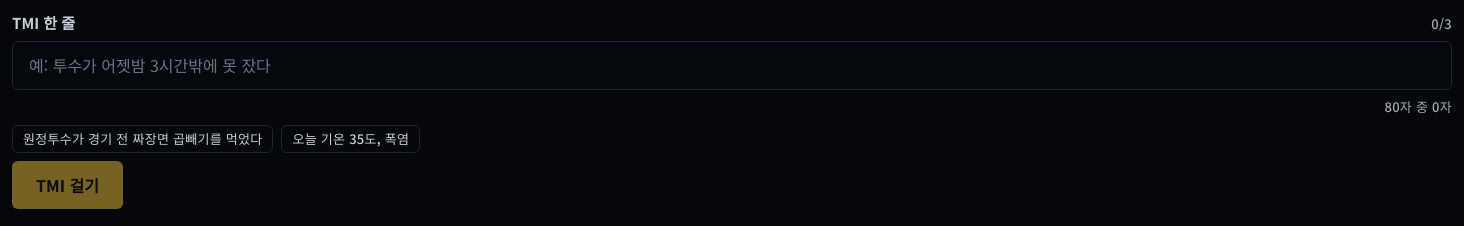
Scenario: TmiComposer › label이 붙은 80자 입력과 글자 수를 보여준다
Expected: the text "80자 중 0자" is shown, top-left (1384, 98), bottom-right (1452, 117)
Type "오늘 폭염" into the field labelled "TMI 한 줄".
click(732, 66); type("오늘 폭염")  # box top-left (12, 41), bottom-right (1452, 90)
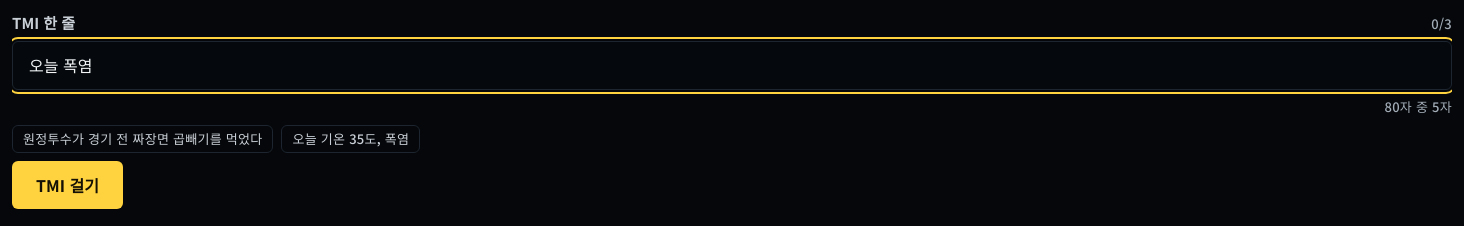
Expected: the text "80자 중 5자" is shown, top-left (1384, 98), bottom-right (1452, 117)
